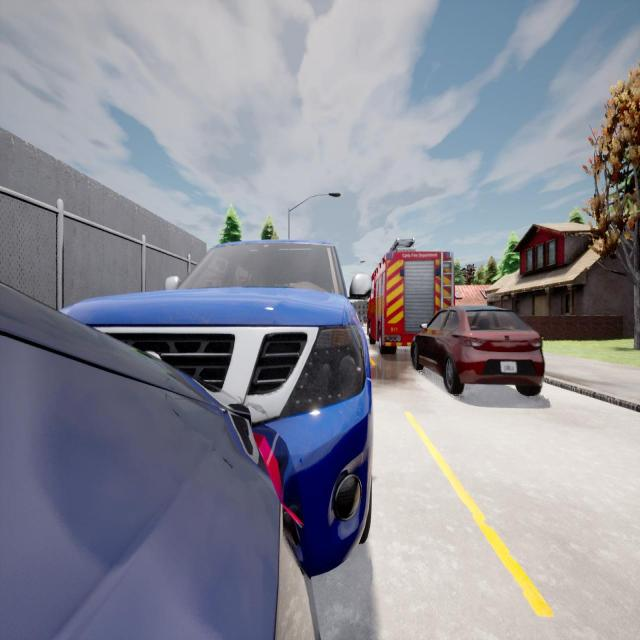Vehicle: (0, 300, 306, 638), (68, 243, 372, 572), (411, 306, 544, 394), (370, 240, 454, 355)
